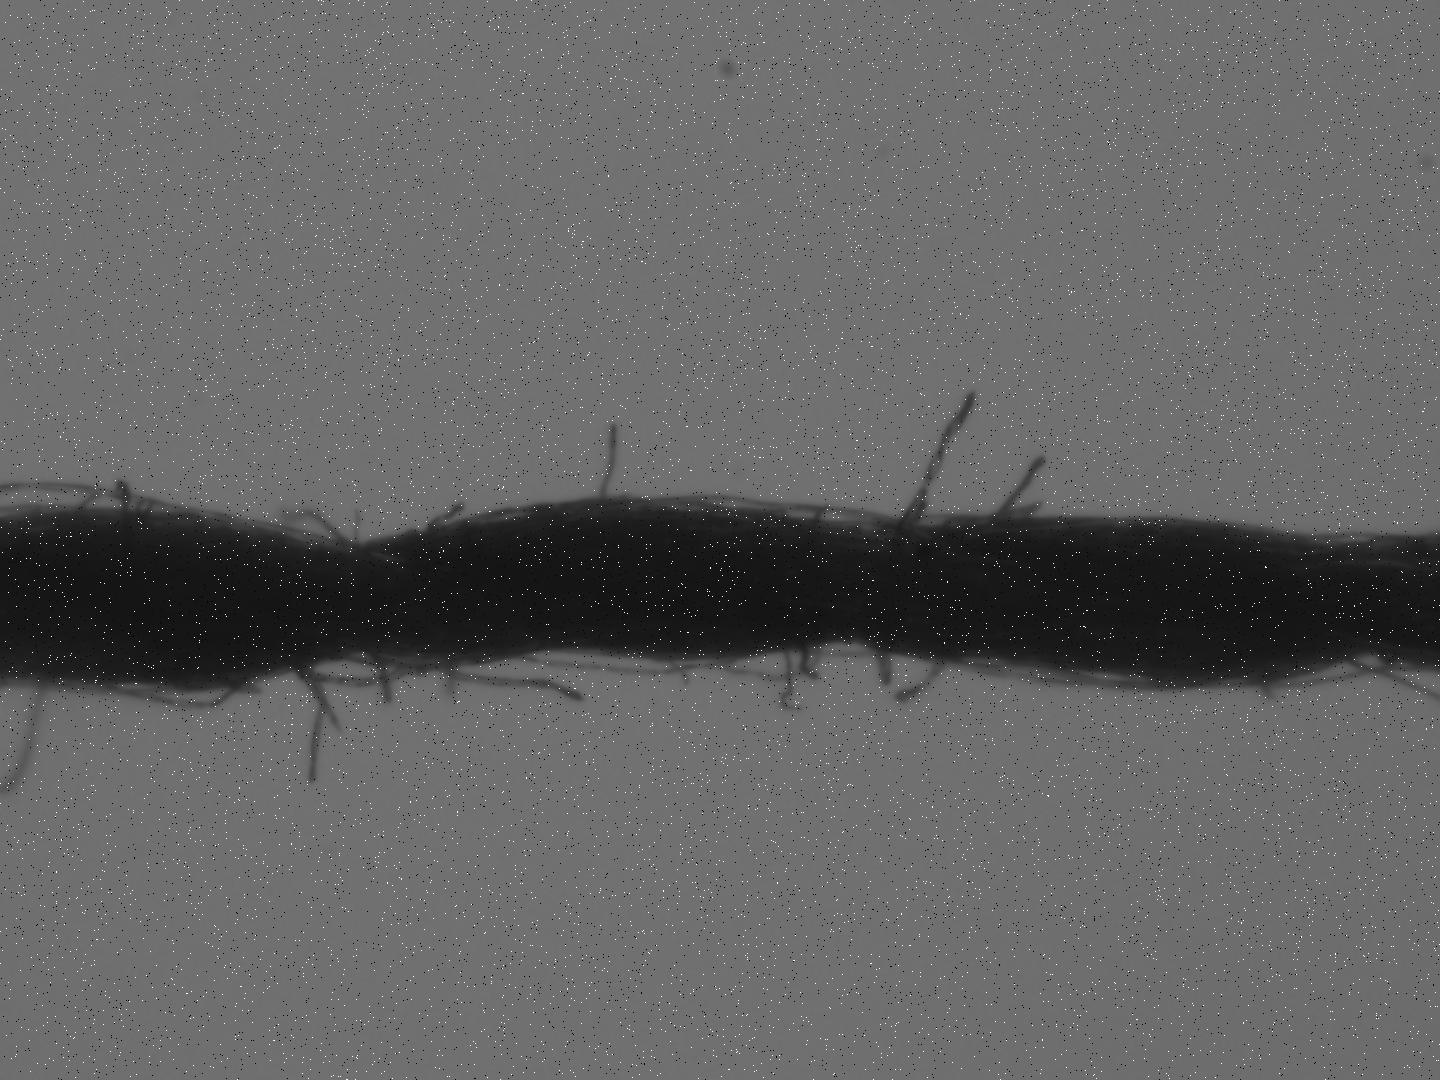loop_fiber: (289, 641, 566, 694), (59, 663, 273, 715), (641, 492, 886, 526), (1260, 657, 1432, 692), (1048, 664, 1194, 691), (1302, 528, 1379, 548)
protruding_fiber: (893, 388, 985, 540), (593, 414, 621, 506), (796, 642, 825, 689)
